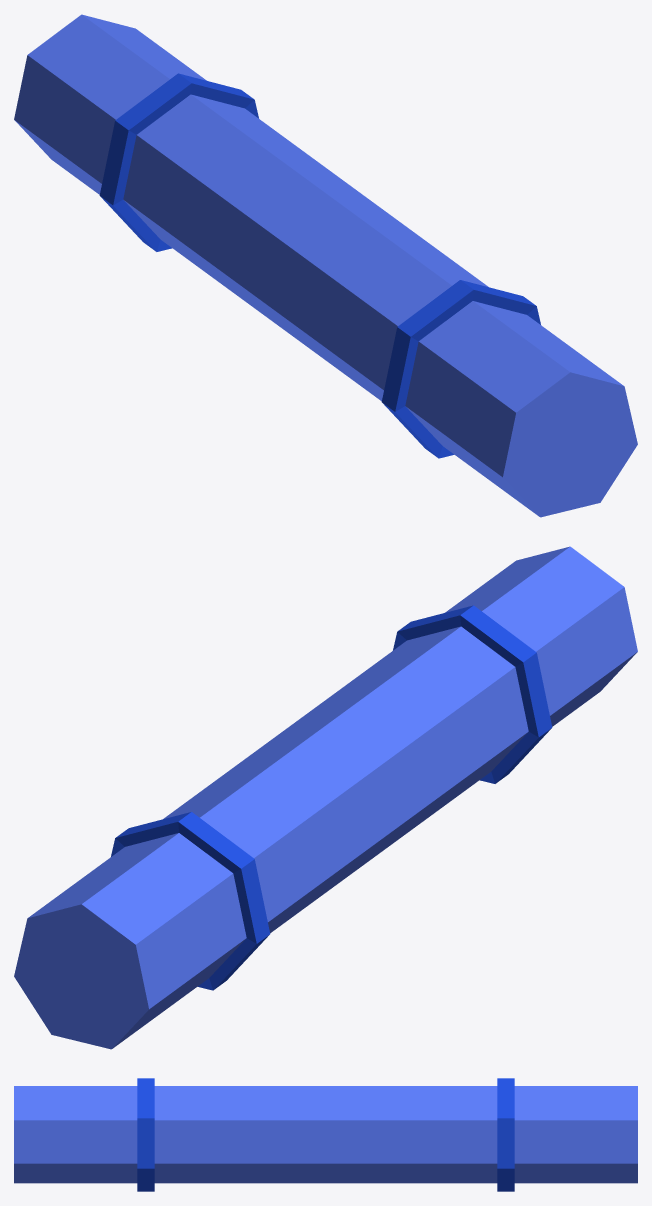
Rendered from waterpipe.fbx.
3 views of the same model, one above another, from view 1: azimuth 30°, elevation 25°; view 2: azimuth 150°, elevation 25°; view 3: azimuth 270°, elevation 25° (orthographic). The views are drawn at different scales.
Visible parts, largest first — view 1: Cylinder; view 2: Cylinder; view 3: Cylinder.
Part boxes in pixels (x1,y1,x2,y2): Cylinder: (14,14,637,517); Cylinder: (14,546,637,1049); Cylinder: (14,1078,637,1191).
Size of the model in its own units: 227 by 221 by 1222.
